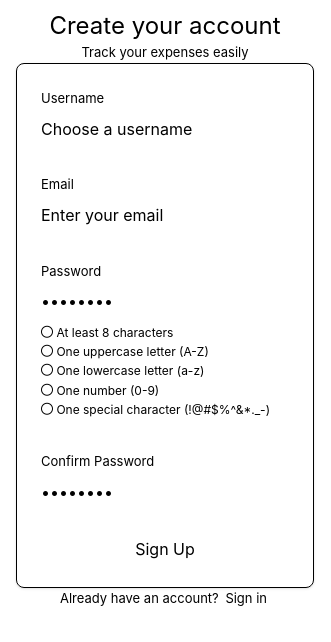
Test case: RegisterView › should show error message when email format is invalid
Type "invalid-email" into the field with id "email" at (165, 216), box x1=41 y1=203 x2=289 y2=229
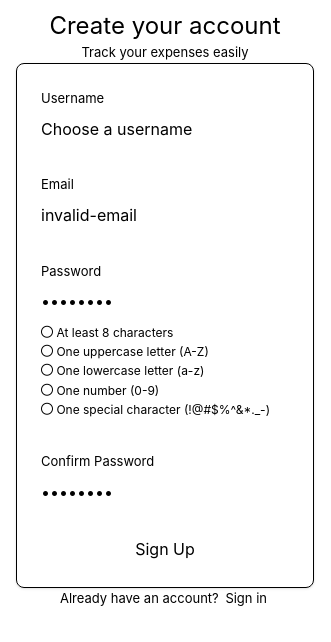
Leave the field with id "email", box x1=41 y1=203 x2=289 y2=229
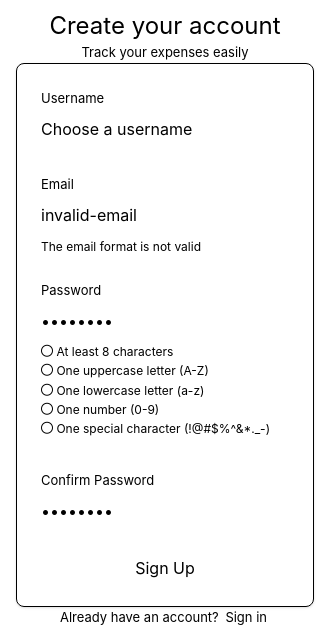
Result: the text "email format is not valid" is shown at x1=41 y1=239 x2=201 y2=254
